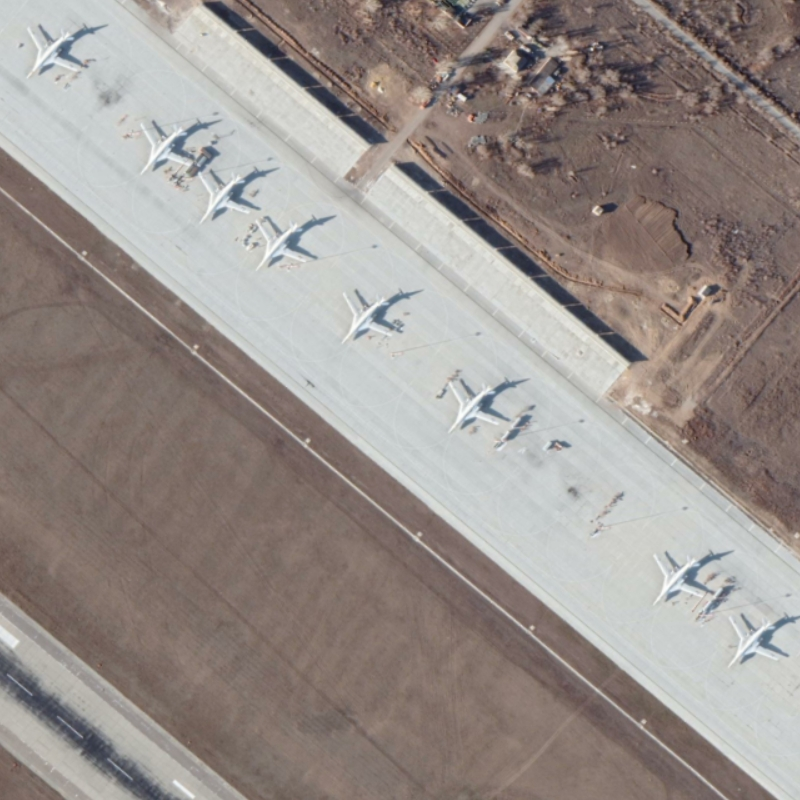A6: (193, 161, 261, 225), (134, 116, 200, 178), (24, 21, 88, 82), (652, 547, 712, 610), (338, 285, 398, 347), (724, 611, 786, 669), (252, 214, 313, 272), (445, 375, 502, 437)
